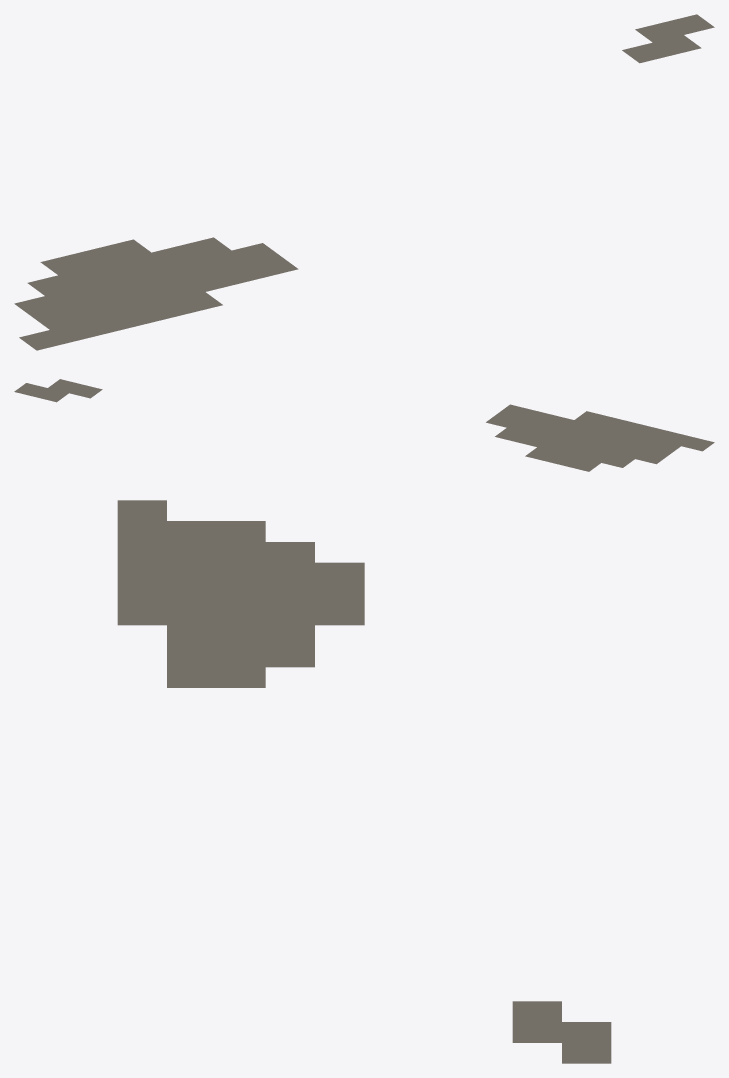
Rendered from Isl-orc1-RocksArea.fbx.
3 views of the same model, one above another, from view 1: azimuth 30°, elevation 25°; view 2: azimuth 150°, elevation 25°; view 3: azimuth 270°, elevation 25° (orthographic). The views are drawn at different scales.
Parts seen in each view (by area): view 1: Isl-orc1-RocksArea; view 2: Isl-orc1-RocksArea; view 3: Isl-orc1-RocksArea.
Part boxes in pixels (x1,y1,x2,y2): Isl-orc1-RocksArea: (14, 14, 714, 350); Isl-orc1-RocksArea: (14, 379, 714, 471); Isl-orc1-RocksArea: (117, 500, 611, 1063).
Size of the model in its own units: 27 by 0 by 10.
